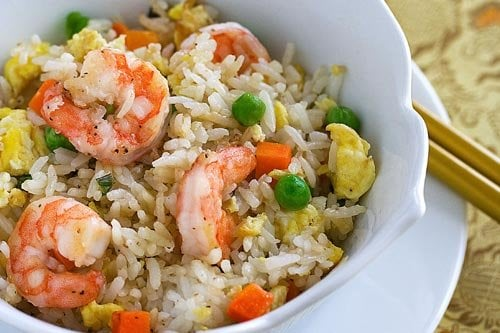sushi: (10, 7, 432, 328)
